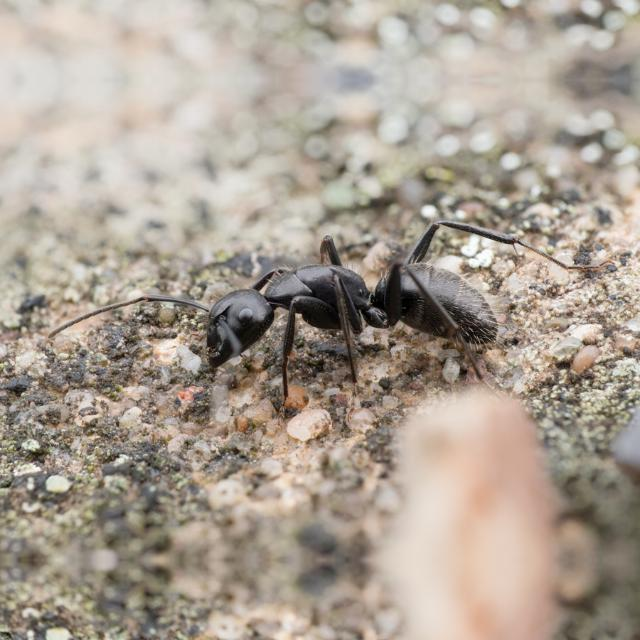Camponotus: (136, 197, 526, 403)
